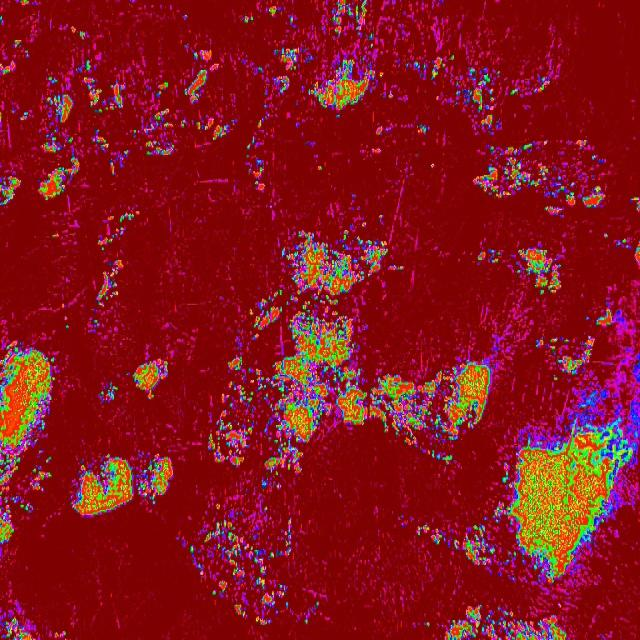fire: (207, 228, 490, 488), (496, 384, 640, 584), (178, 500, 294, 630), (0, 339, 57, 547), (473, 140, 612, 214), (70, 450, 176, 520), (445, 601, 571, 640), (38, 88, 81, 202), (306, 55, 378, 119), (413, 518, 497, 568), (454, 63, 504, 138), (142, 78, 178, 164), (534, 335, 595, 384), (516, 246, 564, 298), (81, 74, 126, 114), (131, 357, 170, 402), (330, 0, 374, 39), (94, 257, 124, 313), (242, 130, 268, 194), (98, 207, 135, 251), (88, 128, 116, 180), (402, 54, 456, 80), (192, 116, 235, 142), (0, 616, 40, 640), (185, 70, 211, 106), (269, 44, 305, 70), (614, 233, 640, 261), (0, 174, 22, 206), (98, 380, 118, 410), (304, 599, 322, 629), (596, 308, 620, 329), (272, 74, 292, 94), (532, 73, 552, 91), (190, 48, 212, 62), (116, 150, 128, 174), (69, 25, 87, 40), (240, 9, 255, 27), (13, 38, 27, 57), (373, 125, 392, 139), (45, 72, 60, 88), (414, 123, 430, 137), (258, 112, 272, 128), (629, 192, 640, 212), (268, 4, 282, 18), (506, 87, 522, 99), (260, 90, 270, 109), (178, 115, 189, 131), (492, 247, 502, 264), (52, 630, 68, 640), (398, 514, 407, 531), (83, 58, 94, 71), (381, 91, 395, 100), (50, 230, 62, 240), (602, 230, 612, 242), (19, 110, 30, 120), (0, 66, 11, 76), (0, 11, 6, 29), (16, 0, 29, 8), (315, 164, 324, 175), (377, 213, 385, 224), (92, 318, 100, 328), (428, 162, 438, 170), (584, 314, 592, 324), (288, 14, 295, 25), (181, 13, 190, 21), (423, 621, 432, 628), (63, 324, 71, 331), (379, 71, 386, 78), (132, 128, 138, 136), (258, 64, 264, 72)
